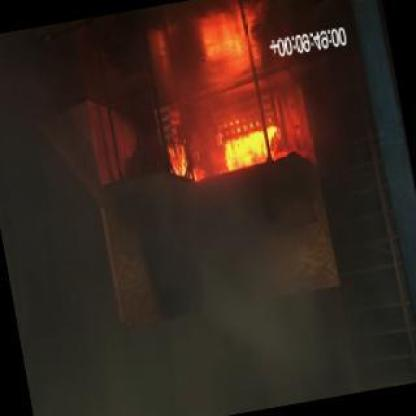Fire: (166, 5, 281, 178)
